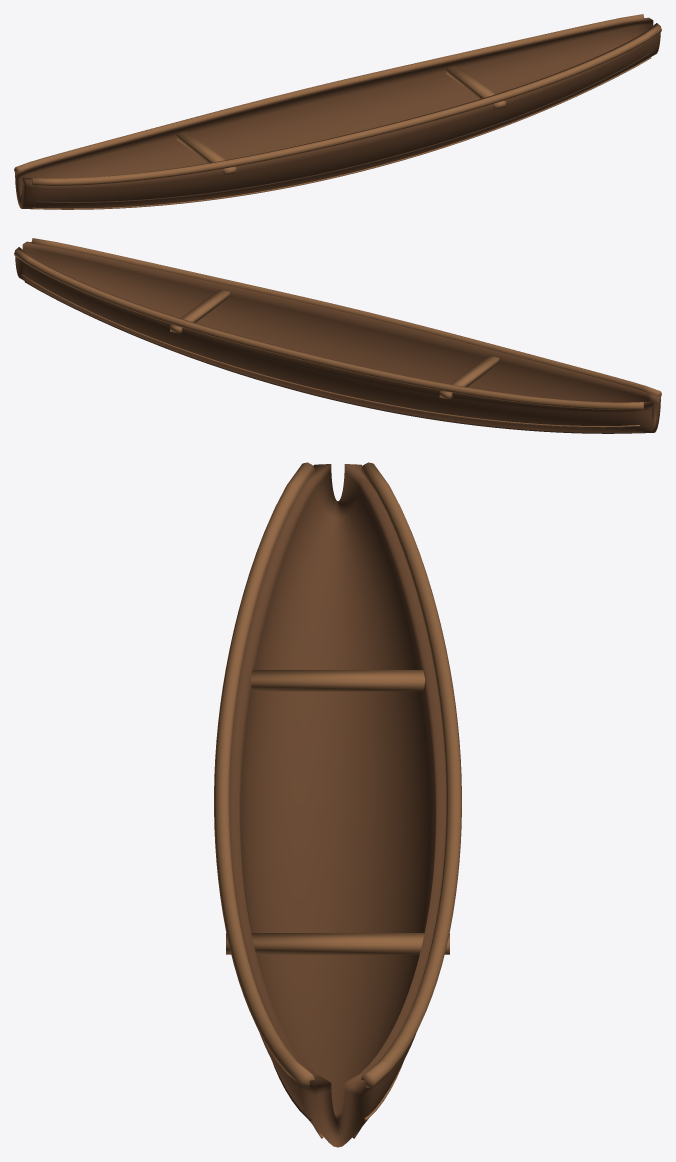
The model's file is 02_Barca_Monoxila_Unity_Y_Up.obj.
3 renders of one model, top to bottom at view 1: azimuth 30°, elevation 25°; view 2: azimuth 150°, elevation 25°; view 3: azimuth 270°, elevation 25°, orthographic. The views are drawn at different scales.
Parts seen in each view (by area): view 1: wood, wood_light, wood_dark; view 2: wood, wood_light, wood_dark; view 3: wood, wood_light.
Part boxes in pixels (x1,y1,x2,y2): wood: [15, 17, 660, 209]; wood_light: [14, 14, 661, 209]; wood_dark: [35, 50, 654, 203]; wood: [15, 241, 660, 433]; wood_light: [14, 238, 661, 427]; wood_dark: [24, 281, 643, 433]; wood: [229, 464, 446, 1147]; wood_light: [214, 462, 461, 1138].
Bounding box in the file's own units: 8.7 × 0.9606 × 1.47.
